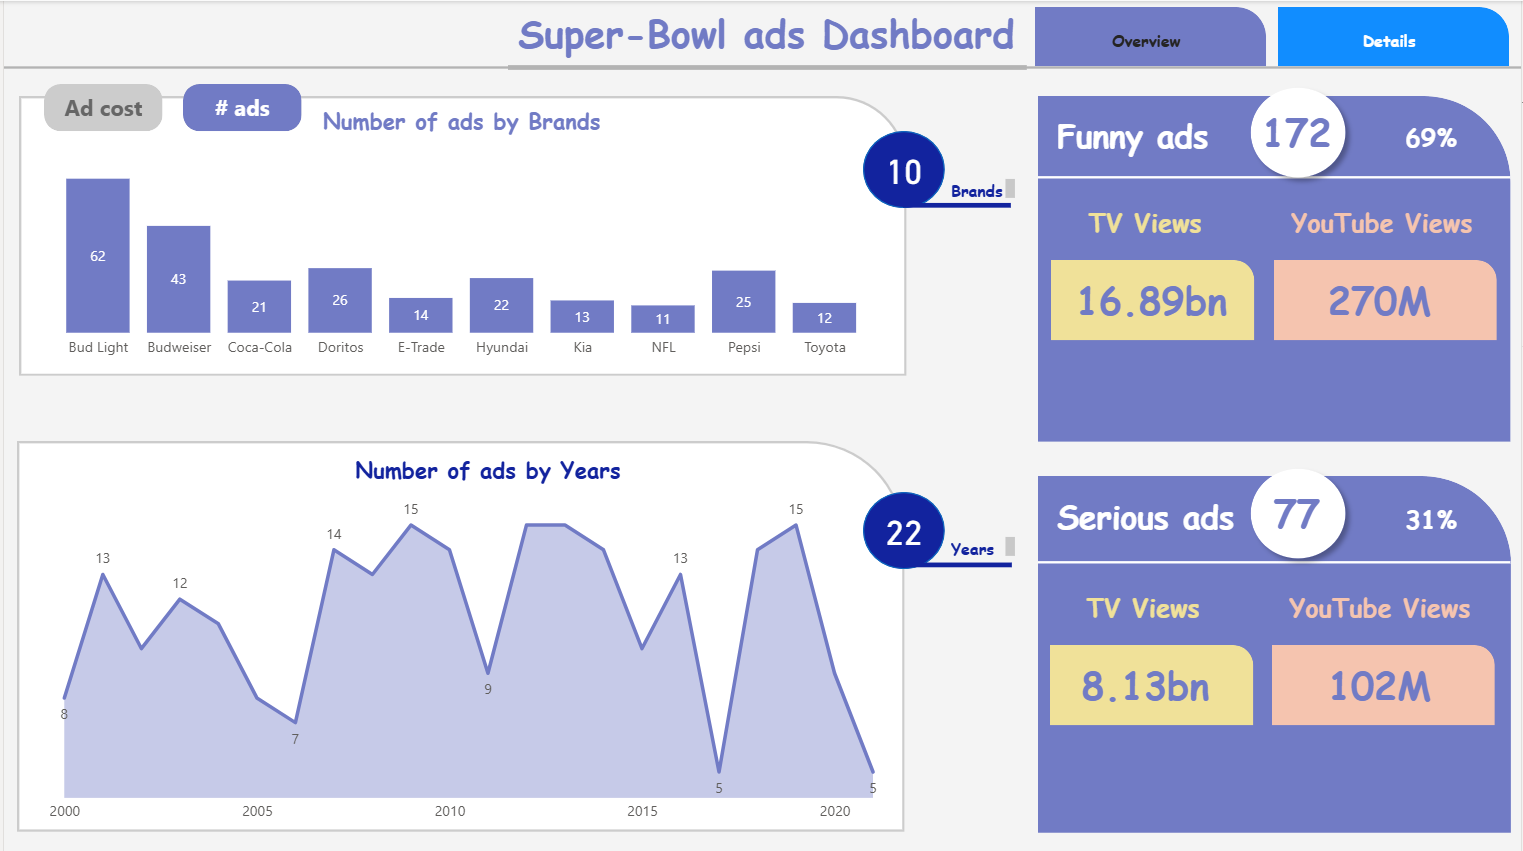

What the dashboard file says about the page in this screenshot:
{"tool":"powerbi","page":{"name":"Details","canvas":[1280,720],"ordinal":1},"visuals":[{"type":"textbox","box":[428.9,0,486.3,62.2],"z":0},{"type":"actionButton","title":"Ad cost","box":[33.5,69.8,100.2,39.9],"z":0,"group":"g2"},{"type":"actionButton","title":"Ad cost","box":[33.8,69.9,100.2,39.9],"z":0,"group":"g1"},{"type":"shape","box":[425,49.6,437.7,12.6],"z":1000},{"type":"actionButton","title":"#  ads","box":[151.5,69.9,100.2,39.9],"z":1000,"group":"g1"},{"type":"shape","box":[0,49.6,428.9,12.6],"z":2000},{"type":"shape","box":[851.1,49.6,428.9,12.6],"z":3000},{"type":"shape","box":[12.6,79.8,748.9,236.4],"z":4000},{"type":"shape","box":[10.7,371.6,748.9,329.7],"z":5000},{"type":"areaChart","title":"Number of ads by Years","fields":{"Category":["Dim_Year.Year"],"Y":["Measure Table.Total Records"]},"box":[33.1,381.3,750.9,320],"z":6000},{"type":"shape","box":[724.6,109.9,69.1,65.2],"z":7000},{"type":"shape","box":[724.6,414.3,69.1,65.2],"z":8000},{"type":"card","fields":{"Values":["Measure Table.#  Brands"]},"box":[731.4,116.7,55.4,52.5],"z":9000},{"type":"card","fields":{"Values":["Measure Table.# Year"]},"box":[731.4,421.2,55.4,52.5],"z":10000},{"type":"shape","box":[758.1,166.4,91.4,12.3],"z":11000},{"type":"shape","box":[759.2,469.5,91.4,13.4],"z":12000},{"type":"textbox","box":[793.7,144.9,64.2,26.3],"z":13000},{"type":"textbox","box":[793.7,447.4,64.2,26.3],"z":14000},{"type":"shape","box":[872.5,79.8,398.8,291.8],"z":15000},{"type":"shape","box":[872.1,400.4,399.3,301.4],"z":16000},{"type":"textbox","box":[883.2,90.5,145.9,52.5],"z":17000},{"type":"textbox","box":[883.2,411.4,171.2,52.5],"z":18000},{"type":"group","id":"g1","title":"InActiv Btn","box":[33.8,69.9,216.5,40.6],"z":19000},{"type":"group","id":"g2","title":"Active Btn","box":[33.5,69.8,217.4,40.3],"z":20000},{"type":"group","id":"g3","title":"Charts","box":[20,87.2,732.6,223.3],"z":21000},{"type":"clusteredColumnChart","title":"Estimated Ad cost","fields":{"Y":["Measure Table.Ad cost"],"Category":["Dim_Brands.Brand"]},"box":[20,87.5,732.6,223],"z":22000,"group":"g3"},{"type":"shape","box":[872.2,142.8,398.6,12.3],"z":22000},{"type":"shape","box":[872.2,467.4,398.6,12.3],"z":23000},{"type":"shape","box":[1042.5,63.9,98,93.7],"z":24000},{"type":"card","fields":{"Values":["Measure Table.# Funny ads"]},"box":[1050,80.9,82,59.6],"z":25000},{"type":"shape","box":[1042.5,385.5,98,93.7],"z":26000},{"type":"card","fields":{"Values":["Measure Table.# Serious ads"]},"box":[1050,402.5,82,59.6],"z":27000},{"type":"card","fields":{"Values":["Measure Table.% Funyy ads"]},"box":[1163.9,87.3,81.2,59.6],"z":28000},{"type":"card","fields":{"Values":["Measure Table.% Serious ads"]},"box":[1163.9,408.9,81.2,59.6],"z":29000},{"type":"shape","box":[1071.5,218.8,188,67.8],"z":30000},{"type":"textbox","box":[895.8,166.4,133.5,52.4],"z":31000},{"type":"textbox","box":[1065.3,166.4,194.2,52.4],"z":32000},{"type":"shape","box":[883.5,218.8,171.6,67.8],"z":33000},{"type":"shape","box":[1070.2,543.2,188,67.8],"z":34000},{"type":"textbox","box":[894.5,490.8,133.5,52.4],"z":35000},{"type":"textbox","box":[1064,490.8,194.2,52.4],"z":36000},{"type":"shape","box":[882.2,543.2,171.6,67.8],"z":37000},{"type":"card","fields":{"Values":["Measure Table.# YouTube Funny ads"]},"box":[1085.8,222.9,149,59.6],"z":38000},{"type":"card","fields":{"Values":["Measure Table.# YouTube Serious ads"]},"box":[1085.8,547.5,149,59.6],"z":39000},{"type":"card","fields":{"Values":["Measure Table.# TV Funny ads"]},"box":[893.4,222.6,149.1,59.6],"z":40000},{"type":"card","fields":{"Values":["Measure Table.# TV Serious ads"]},"box":[888.1,547.4,149.1,59.6],"z":41000},{"type":"pageNavigator","box":[870,5.3,400.4,50],"z":42000},{"type":"textbox","box":[10.6,109.7,134.2,28.8],"z":43000}]}

Visuals, with their boxes in screenshot pixels (x1, y1, x2, y2), scaled from the page's 1280x720 canvas onto the 1523x851 screenshot:
textbox: bbox(510, 0, 1089, 74)
"Ad cost" actionButton: bbox(40, 82, 159, 130)
"Ad cost" actionButton: bbox(40, 83, 159, 130)
shape: bbox(506, 59, 1026, 74)
"#  ads" actionButton: bbox(180, 83, 299, 130)
shape: bbox(0, 59, 510, 74)
shape: bbox(1013, 59, 1522, 74)
shape: bbox(15, 94, 906, 374)
shape: bbox(13, 439, 904, 829)
"Number of ads by Years" areaChart: bbox(39, 451, 933, 829)
shape: bbox(862, 130, 944, 207)
shape: bbox(862, 490, 944, 567)
card - Measure Table.#  Brands: bbox(870, 138, 936, 200)
card - Measure Table.# Year: bbox(870, 498, 936, 560)
shape: bbox(902, 197, 1011, 211)
shape: bbox(903, 555, 1012, 571)
textbox: bbox(944, 171, 1021, 202)
textbox: bbox(944, 529, 1021, 560)
shape: bbox(1038, 94, 1513, 439)
shape: bbox(1038, 473, 1513, 829)
textbox: bbox(1051, 107, 1224, 169)
textbox: bbox(1051, 486, 1255, 548)
"InActiv Btn" group: bbox(40, 83, 298, 131)
"Active Btn" group: bbox(40, 82, 299, 130)
"Charts" group: bbox(24, 103, 895, 367)
"Estimated Ad cost" clusteredColumnChart: bbox(24, 103, 895, 367)
shape: bbox(1038, 169, 1512, 183)
shape: bbox(1038, 552, 1512, 567)
shape: bbox(1240, 76, 1357, 186)
card - Measure Table.# Funny ads: bbox(1249, 96, 1347, 166)
shape: bbox(1240, 456, 1357, 566)
card - Measure Table.# Serious ads: bbox(1249, 476, 1347, 546)
card - Measure Table.% Funyy ads: bbox(1385, 103, 1481, 174)
card - Measure Table.% Serious ads: bbox(1385, 483, 1481, 554)
shape: bbox(1275, 259, 1499, 339)
textbox: bbox(1066, 197, 1225, 259)
textbox: bbox(1268, 197, 1499, 259)
shape: bbox(1051, 259, 1255, 339)
shape: bbox(1273, 642, 1497, 722)
textbox: bbox(1064, 580, 1223, 642)
textbox: bbox(1266, 580, 1497, 642)
shape: bbox(1050, 642, 1254, 722)
card - Measure Table.# YouTube Funny ads: bbox(1292, 263, 1469, 334)
card - Measure Table.# YouTube Serious ads: bbox(1292, 647, 1469, 718)
card - Measure Table.# TV Funny ads: bbox(1063, 263, 1240, 334)
card - Measure Table.# TV Serious ads: bbox(1057, 647, 1234, 717)
pageNavigator: bbox(1035, 6, 1512, 65)
textbox: bbox(13, 130, 172, 164)
